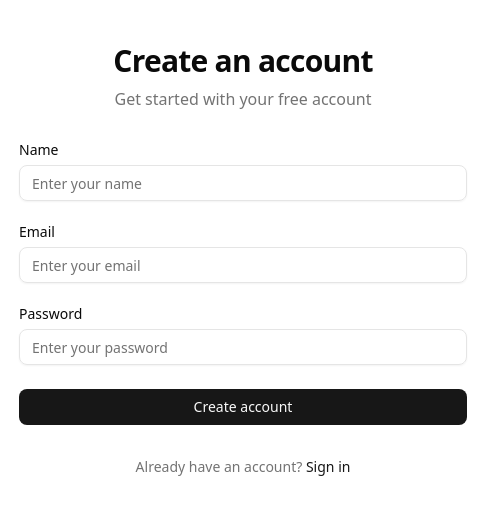
Test case: Register › shows server error when email already exists
Type "John Doe" into the field labelled "Name" at {"x": 243, "y": 183}, box [19,165,467,201]
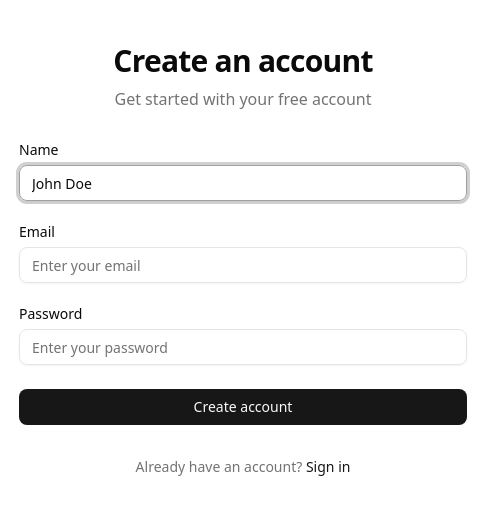
Type "john@example.com" into the field labelled "Email" at {"x": 243, "y": 265}, box [19,247,467,283]
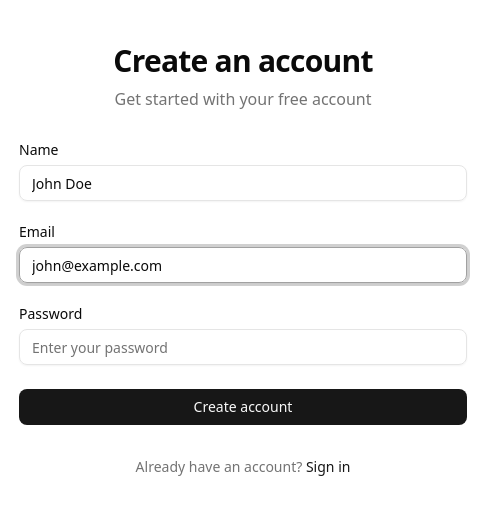
Type "SecurePass1!" into the password field labelled "Password" at {"x": 243, "y": 347}, box [19,329,467,365]
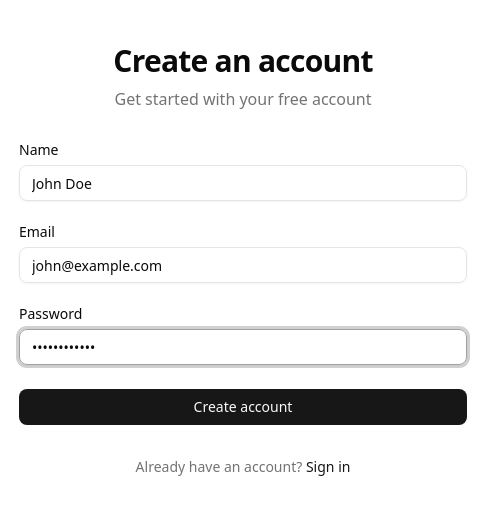
Click the button "Create account" at {"x": 243, "y": 407}, box [19,389,467,425]
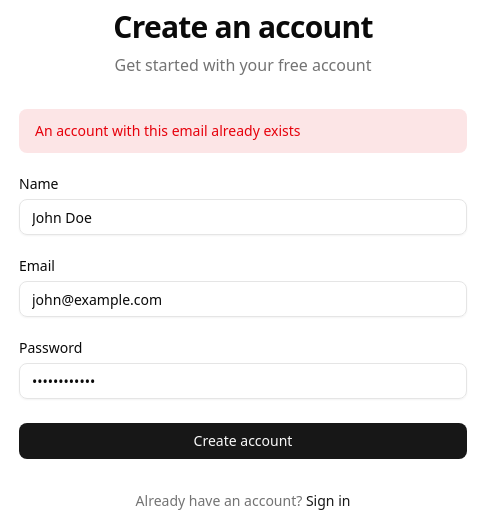
Check: the text "An account with this email already exists" is shown, box [19,109,467,153]
